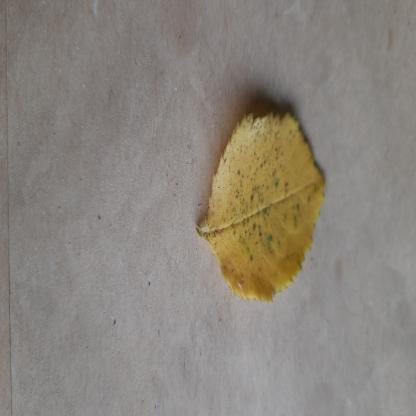black-spot: (206, 103, 328, 299)
